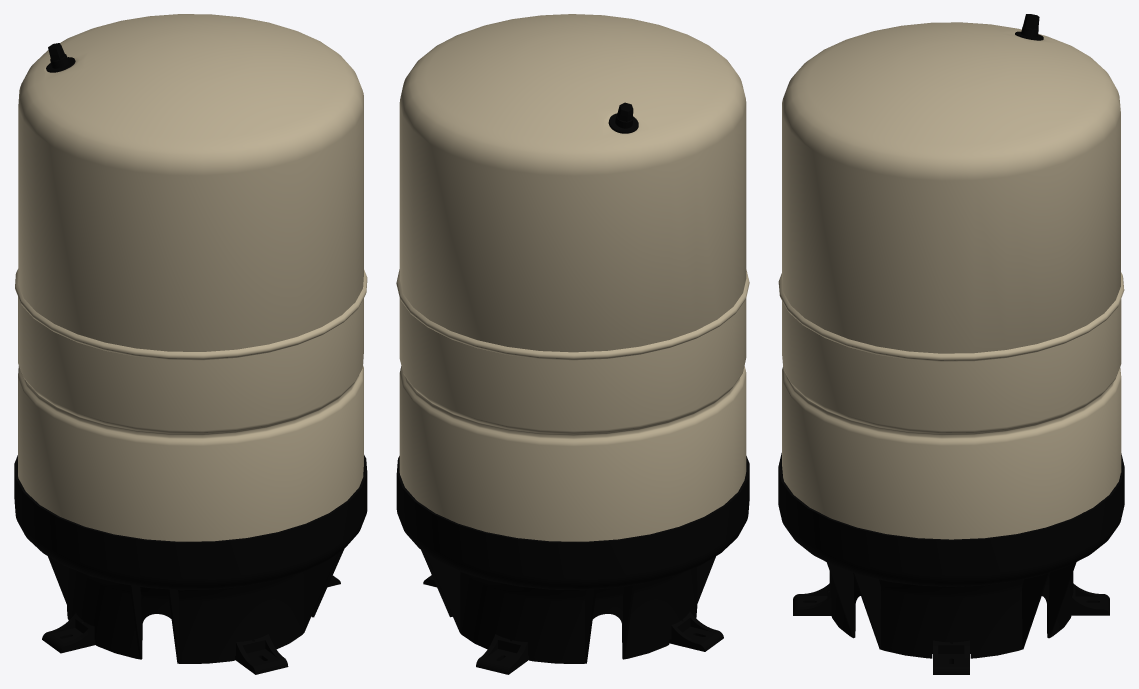
File: 50lt-sabit-dikey-tank.obj
3 renders of one model, left to right at view 1: azimuth 30°, elevation 25°; view 2: azimuth 150°, elevation 25°; view 3: azimuth 270°, elevation 25°, orthographic. The views are drawn at different scales.
Parts seen in each view (by area): view 1: 50lt-sabit-dikey-tank.008, 50lt-sabit-dikey-tank.002, 50lt-sabit-dikey-tank.016, 50lt-sabit-dikey-tank.003, 50lt-sabit-dikey-tank.018, 50lt-sabit-dikey-tank.019, 50lt-sabit-dikey-tank.001; view 2: 50lt-sabit-dikey-tank.008, 50lt-sabit-dikey-tank.002, 50lt-sabit-dikey-tank.016, 50lt-sabit-dikey-tank.003, 50lt-sabit-dikey-tank.017, 50lt-sabit-dikey-tank.019, 50lt-sabit-dikey-tank.001; view 3: 50lt-sabit-dikey-tank.008, 50lt-sabit-dikey-tank.002, 50lt-sabit-dikey-tank.016, 50lt-sabit-dikey-tank.003, 50lt-sabit-dikey-tank.015, 50lt-sabit-dikey-tank.017, 50lt-sabit-dikey-tank.018.
Boxes of the visible parts, x1,y1,x2,y2 form: 50lt-sabit-dikey-tank.008: [18, 14, 363, 351]; 50lt-sabit-dikey-tank.002: [18, 297, 363, 541]; 50lt-sabit-dikey-tank.016: [14, 455, 367, 663]; 50lt-sabit-dikey-tank.003: [15, 269, 367, 360]; 50lt-sabit-dikey-tank.018: [235, 634, 288, 674]; 50lt-sabit-dikey-tank.019: [42, 613, 95, 653]; 50lt-sabit-dikey-tank.001: [46, 43, 75, 72]; 50lt-sabit-dikey-tank.008: [399, 14, 746, 352]; 50lt-sabit-dikey-tank.002: [399, 298, 746, 541]; 50lt-sabit-dikey-tank.016: [396, 456, 749, 663]; 50lt-sabit-dikey-tank.003: [396, 269, 749, 360]; 50lt-sabit-dikey-tank.017: [476, 634, 528, 674]; 50lt-sabit-dikey-tank.019: [669, 611, 723, 651]; 50lt-sabit-dikey-tank.001: [608, 102, 638, 133]; 50lt-sabit-dikey-tank.008: [782, 22, 1120, 353]; 50lt-sabit-dikey-tank.002: [782, 299, 1121, 539]; 50lt-sabit-dikey-tank.016: [778, 453, 1124, 658]; 50lt-sabit-dikey-tank.003: [778, 272, 1124, 361]; 50lt-sabit-dikey-tank.015: [933, 640, 969, 674]; 50lt-sabit-dikey-tank.017: [1071, 583, 1109, 615]; 50lt-sabit-dikey-tank.018: [793, 583, 831, 615].
Size of the model in its own units: 6.34 by 11.07 by 6.34.
